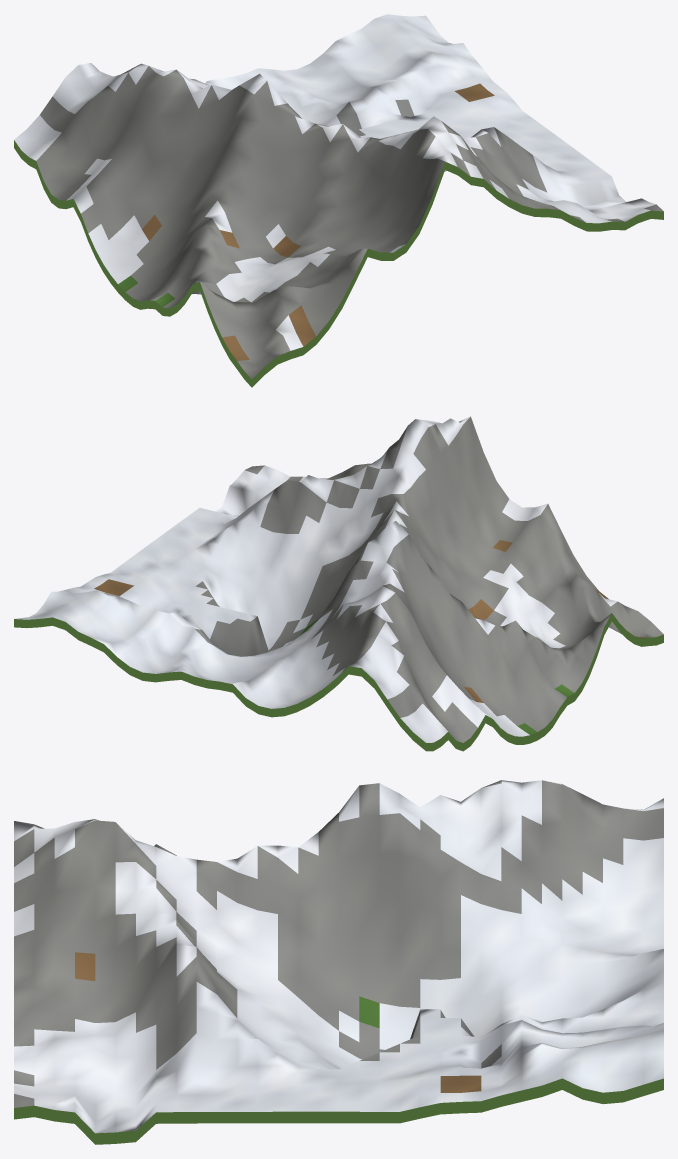
File: chunk_5_1_lod1.glb
3 renders of one model, top to bottom at view 1: azimuth 30°, elevation 25°; view 2: azimuth 150°, elevation 25°; view 3: azimuth 270°, elevation 25°, orthographic. The views are drawn at different scales.
Visible parts, largest first — view 1: Surface_Gravel, Surface_Snow, Skirt, Surface_Dirt; view 2: Surface_Gravel, Surface_Snow, Skirt, Surface_Dirt; view 3: Surface_Snow, Surface_Gravel, Skirt, Surface_Dirt, Surface_Grass.
Part boxes in pixels (box(x1,y1,x2,y2)): Surface_Gravel: box(36, 64, 663, 378); Surface_Snow: box(14, 14, 655, 350); Skirt: box(14, 140, 663, 387); Surface_Dirt: box(142, 83, 494, 360); Surface_Gravel: box(195, 416, 663, 742); Surface_Snow: box(15, 417, 617, 742); Skirt: box(14, 613, 663, 751); Surface_Dirt: box(94, 540, 647, 702); Surface_Snow: box(14, 780, 663, 1133); Surface_Gravel: box(14, 780, 663, 1107); Skirt: box(14, 1078, 663, 1144); Surface_Dirt: box(75, 952, 481, 1092); Surface_Grass: box(359, 996, 379, 1028).
Bounding box in the file's own units: 256 × 118 × 256.
